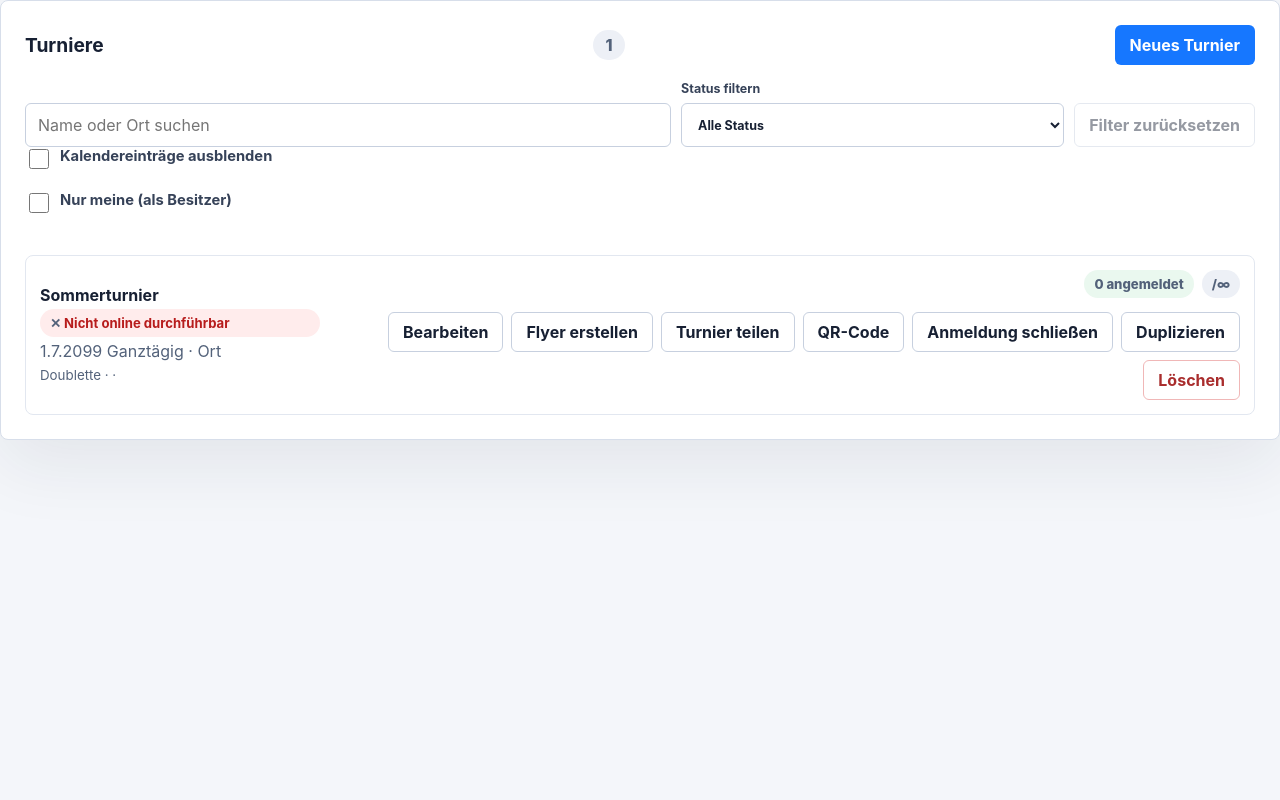
it: Hinweis ohne Mail-Freischaltung › zeigt den Hinweis dem Owner beim Bearbeiten
Click the button "Bearbeiten".
click(446, 332)  # box [388,312,504,352]
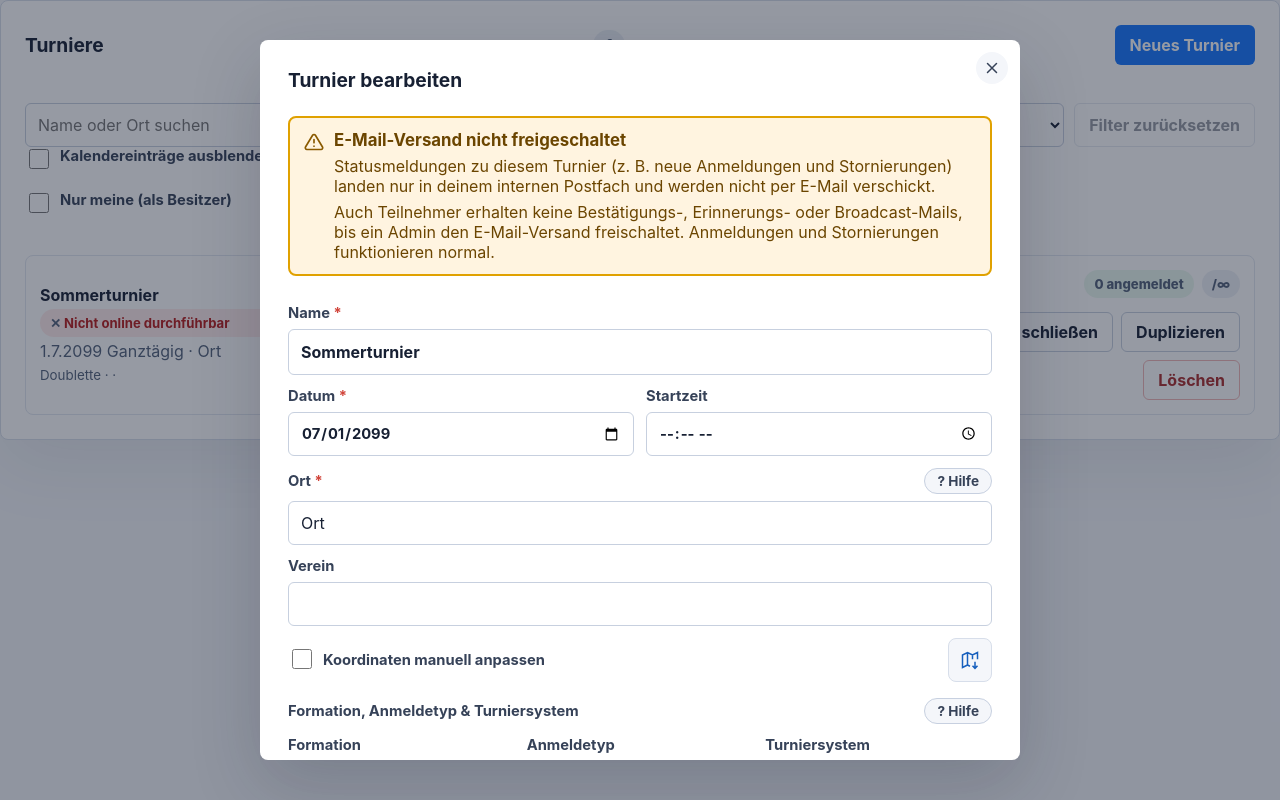
Now the text "E-Mail-Versand nicht freigeschaltet" is shown, box [334,130,626,150]
